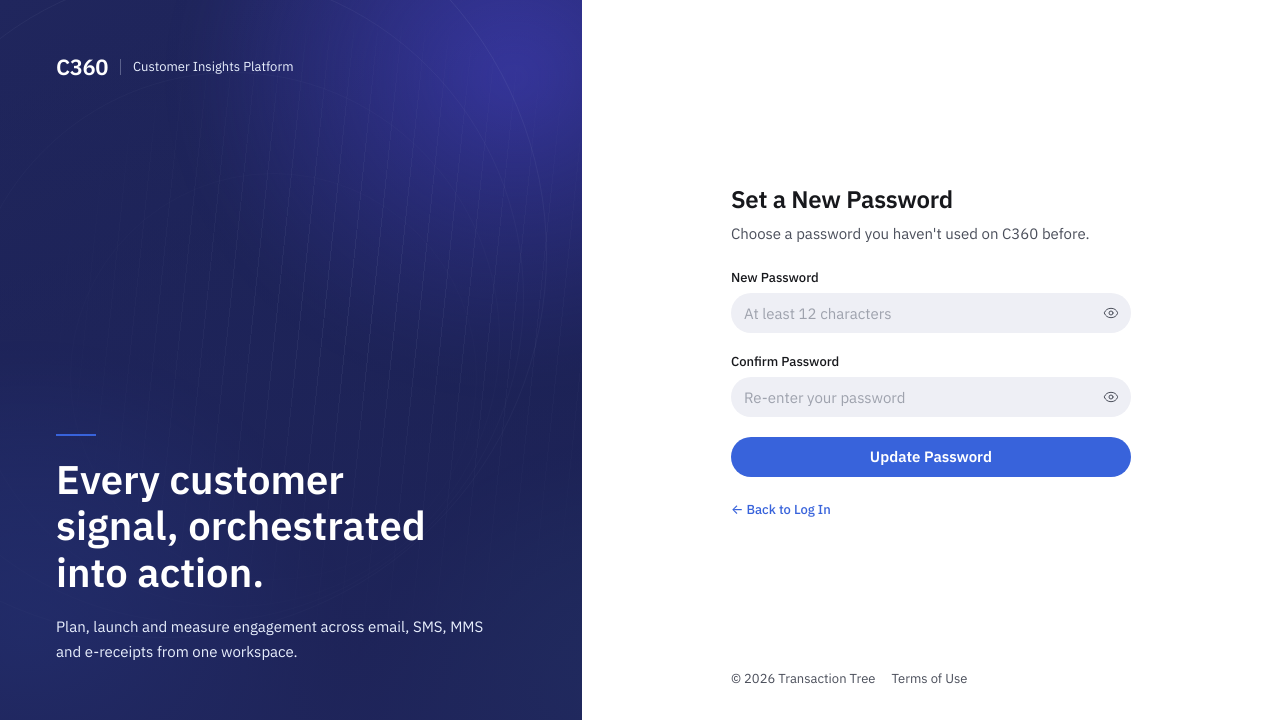
Test case: set password (public): mismatch is caught locally, an expired link is explained, success points to sign in
Type "a long enough passphrase" into the password field labelled "New Password" at (931, 313), box x1=731 y1=293 x2=1131 y2=333
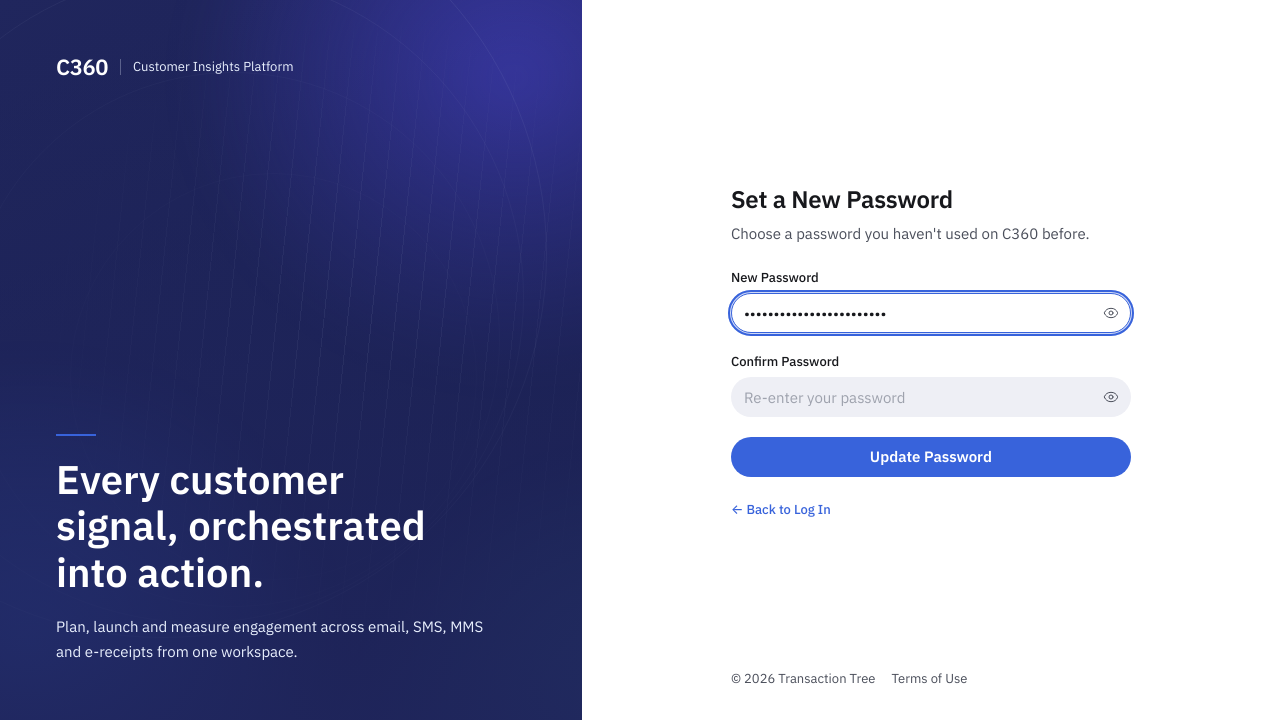
Type "a different passphrase" into the password field labelled "Confirm Password" at (931, 397), box x1=731 y1=377 x2=1131 y2=417
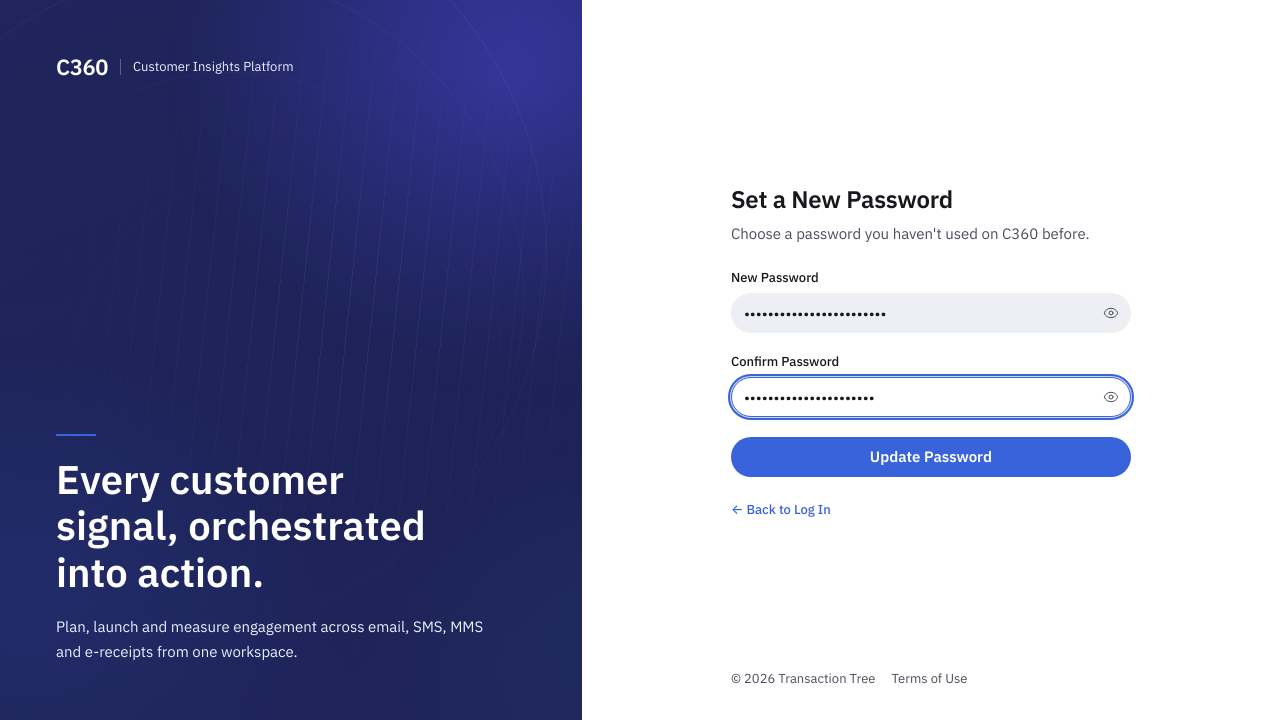
Click the button "Update Password" at (931, 457), box x1=731 y1=437 x2=1131 y2=477
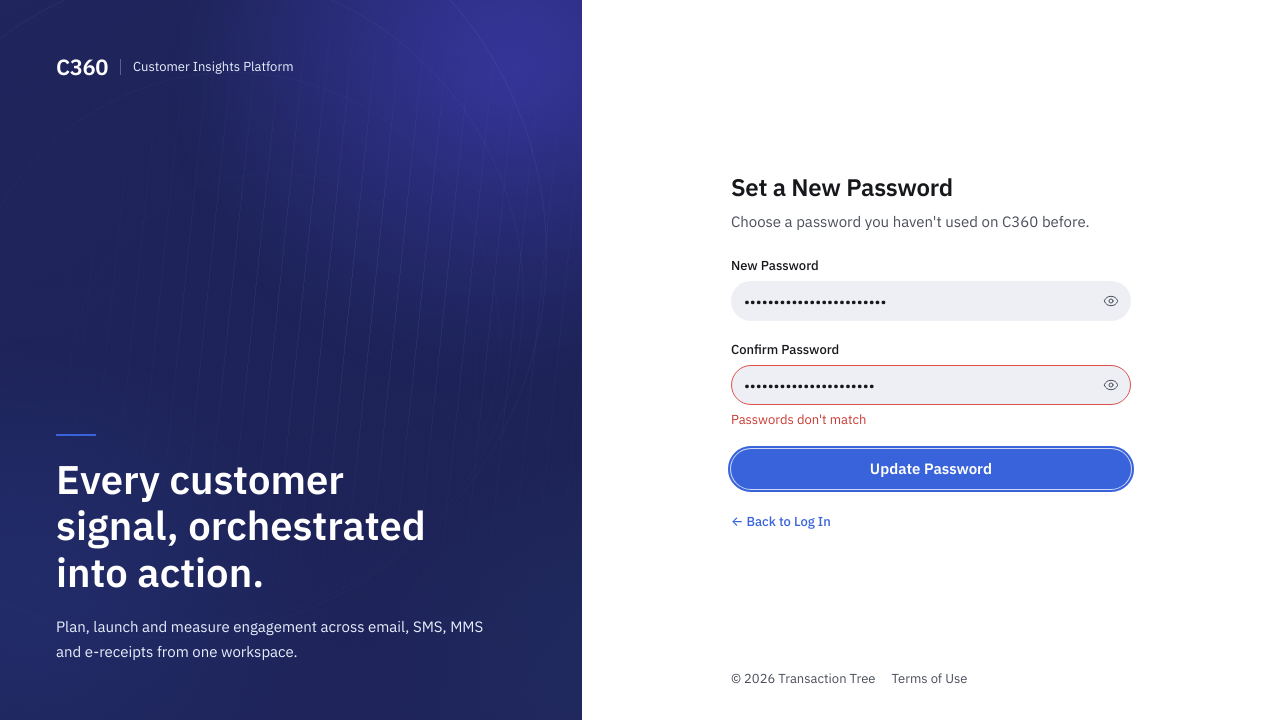
Expected: the text "Passwords don't match" is shown, x1=731 y1=411 x2=866 y2=428
Type "a long enough passphrase" into the password field labelled "Confirm Password" at (931, 385), box x1=731 y1=365 x2=1131 y2=405
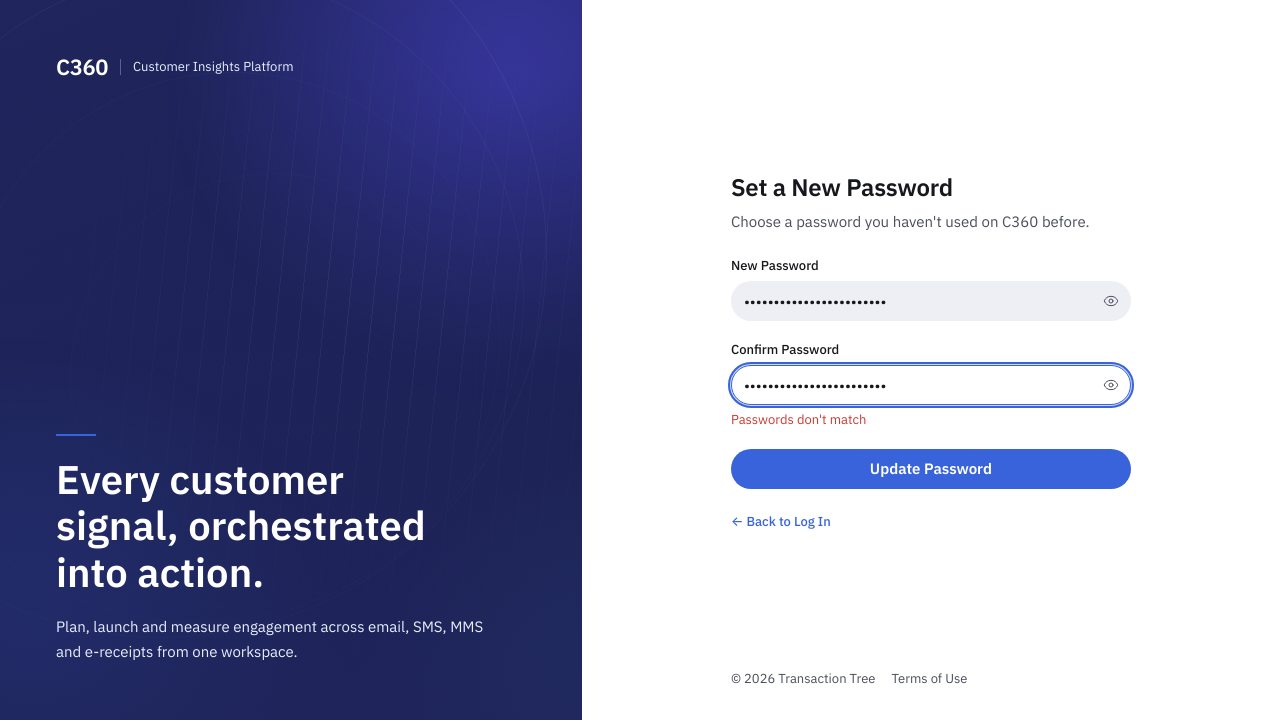
Click the button "Update Password" at (931, 469), box x1=731 y1=449 x2=1131 y2=489
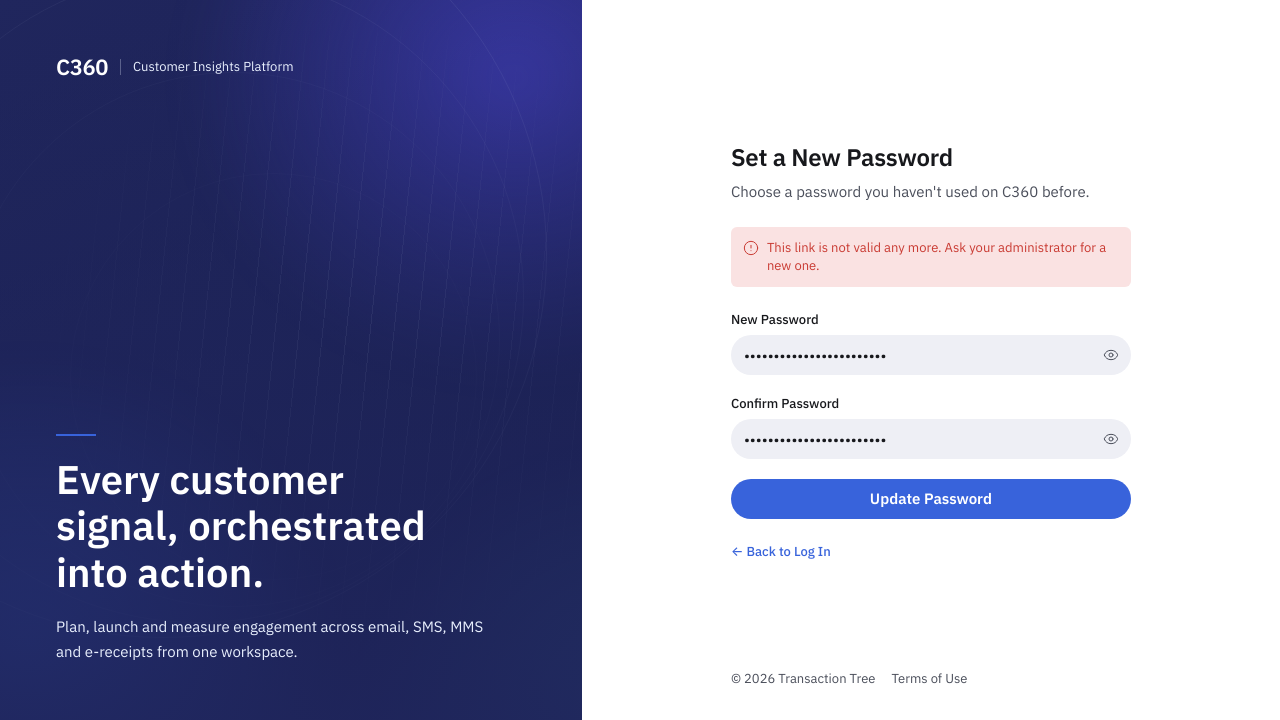
Expected: the message shows "not valid any more", x1=767 y1=239 x2=1106 y2=274
Click the button "Update Password" at (931, 499), box x1=731 y1=479 x2=1131 y2=519
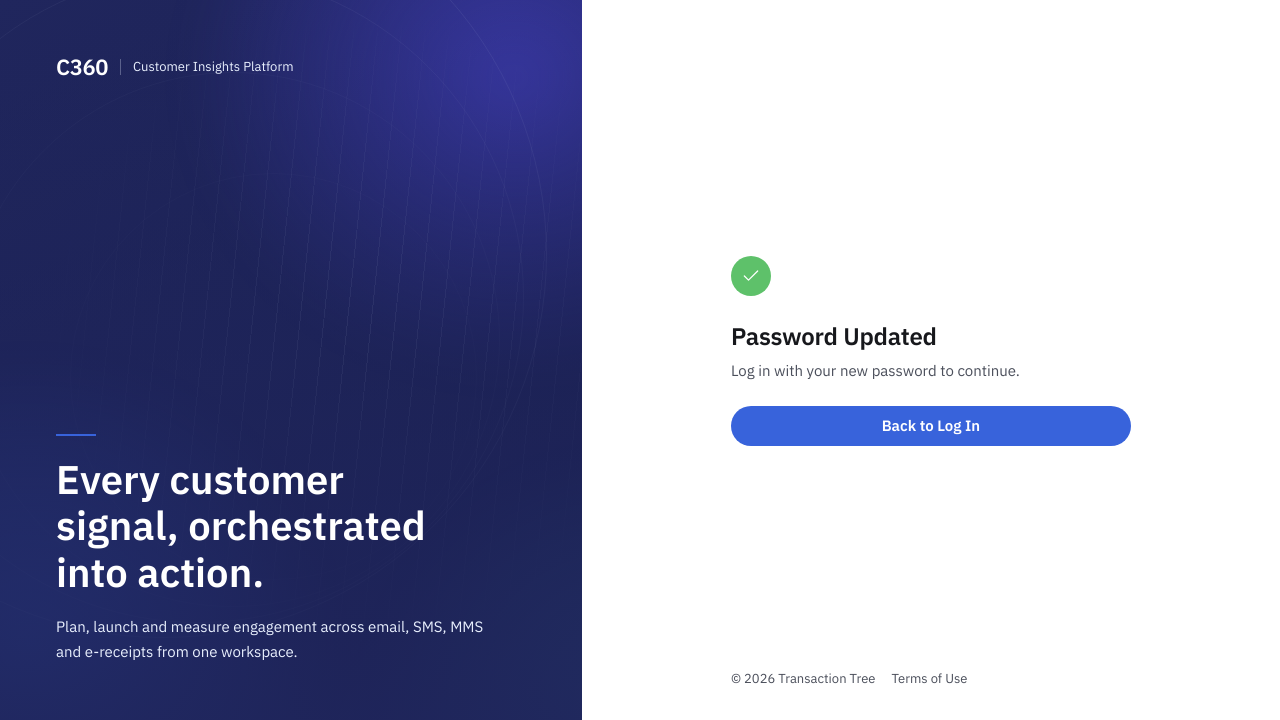
Expected: the heading "Password Updated" is shown, x1=731 y1=320 x2=937 y2=352
